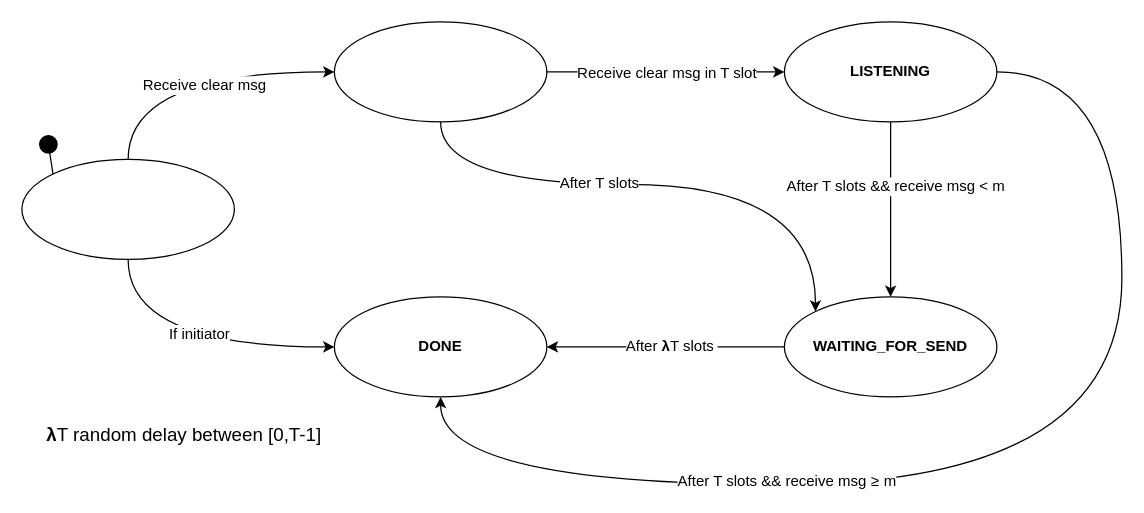
The diagram is 1144 pixels wide and 513 high, and some of its shapes have lost their labels. Here are the shapes that lost their labels. From the top down, the box of each, then its label:
(333, 21, 547, 122): SCHEDULING
(21, 158, 234, 259): WAITING
